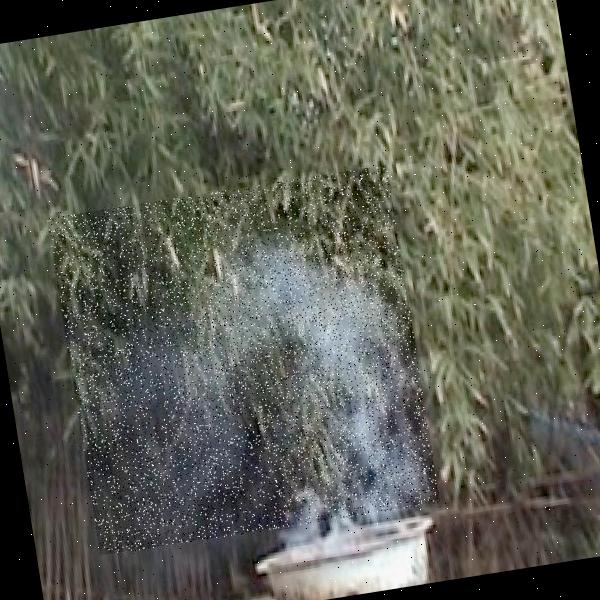smoke: (48, 165, 441, 557)
